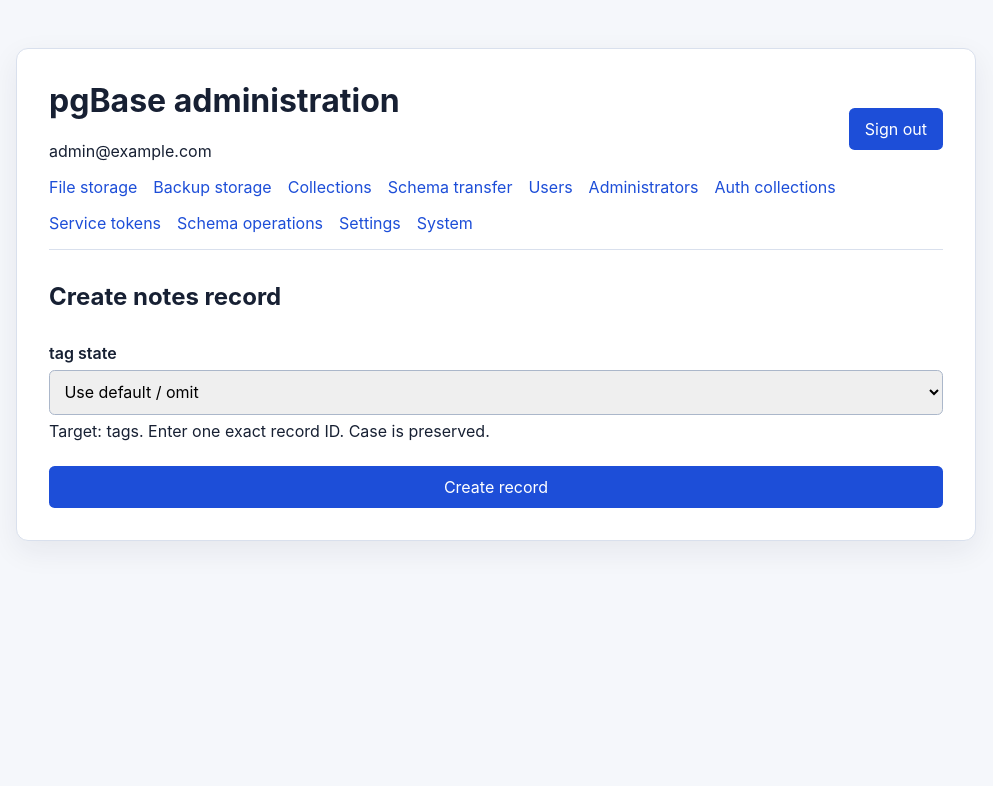
Test: record identity administration › shows the server's invalid related text ID error even without an editable record ID
The image size is (993, 786).
Select "Value" in the dropdown labelled "tag state" at (496, 392), box 49,370 -> 943,415
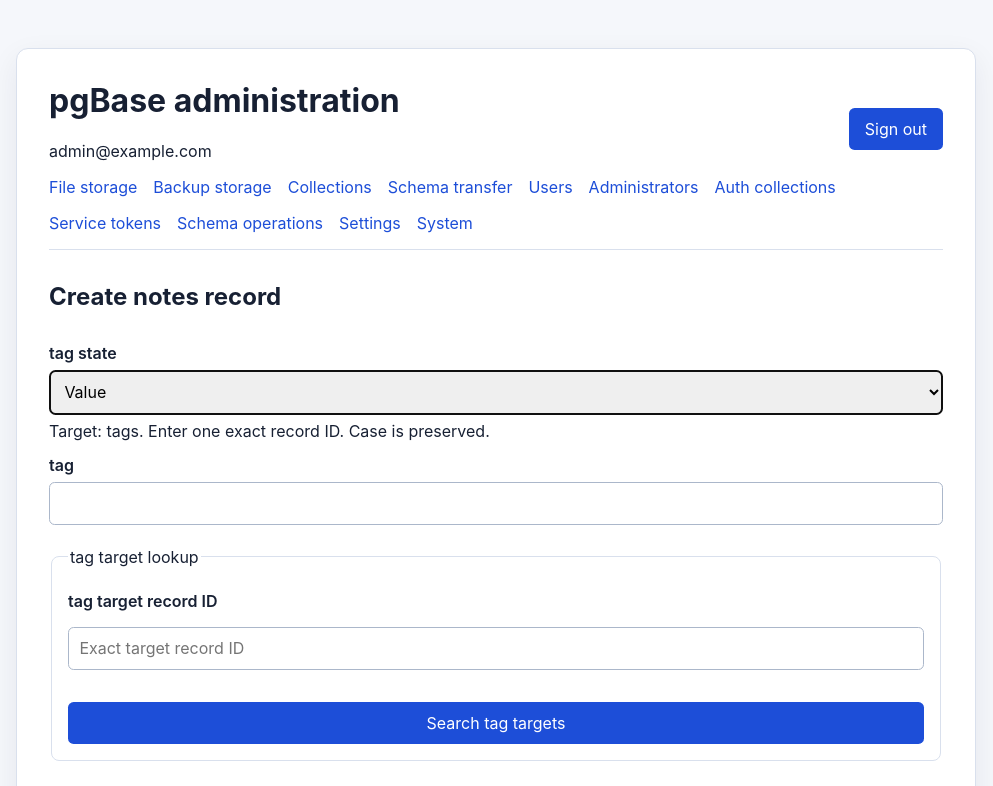
Type "RejectedByServerPolicy" into the field labelled "tag" at (496, 503), box 49,482 -> 943,525
(page scrolled)
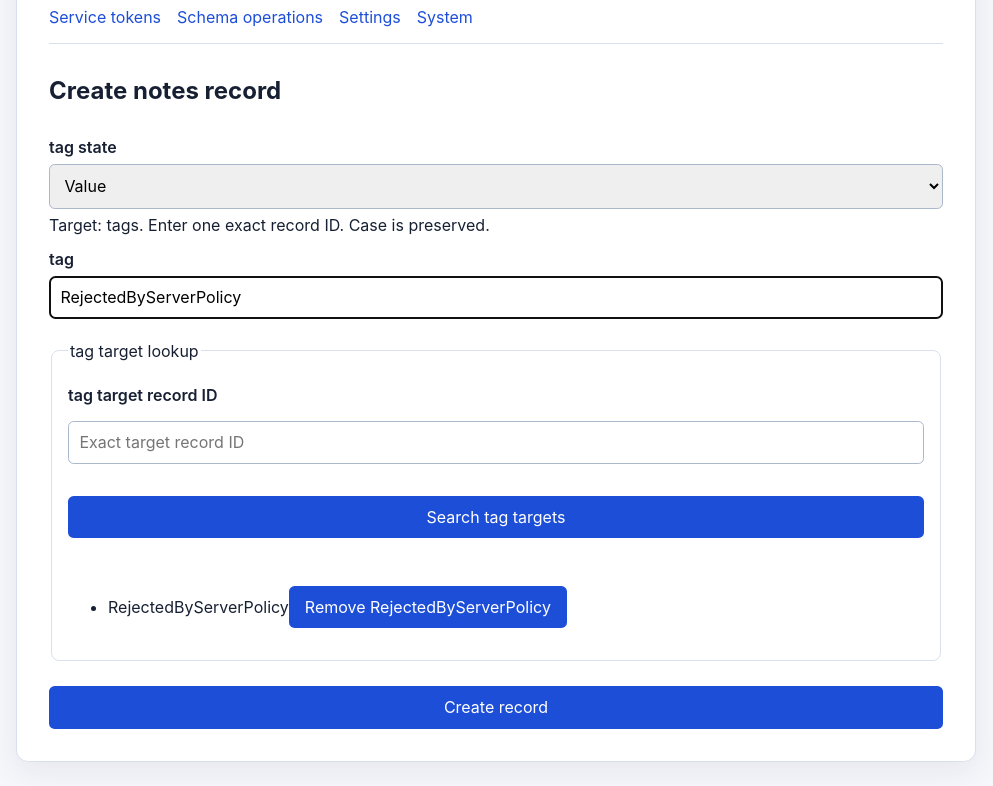
Click the button "Create record" at (496, 708), box 49,686 -> 943,729
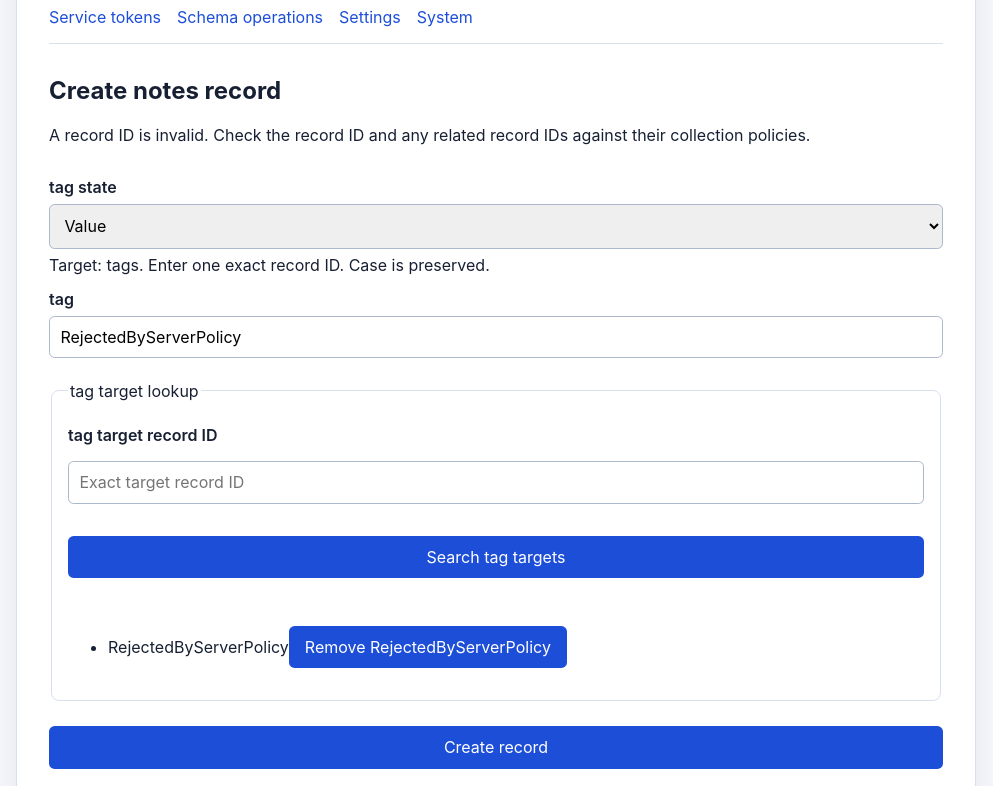
expect the message shows "A record ID is invalid. Check the record ID and any related record IDs against their collection policies.": met, box 49,125 -> 810,145
